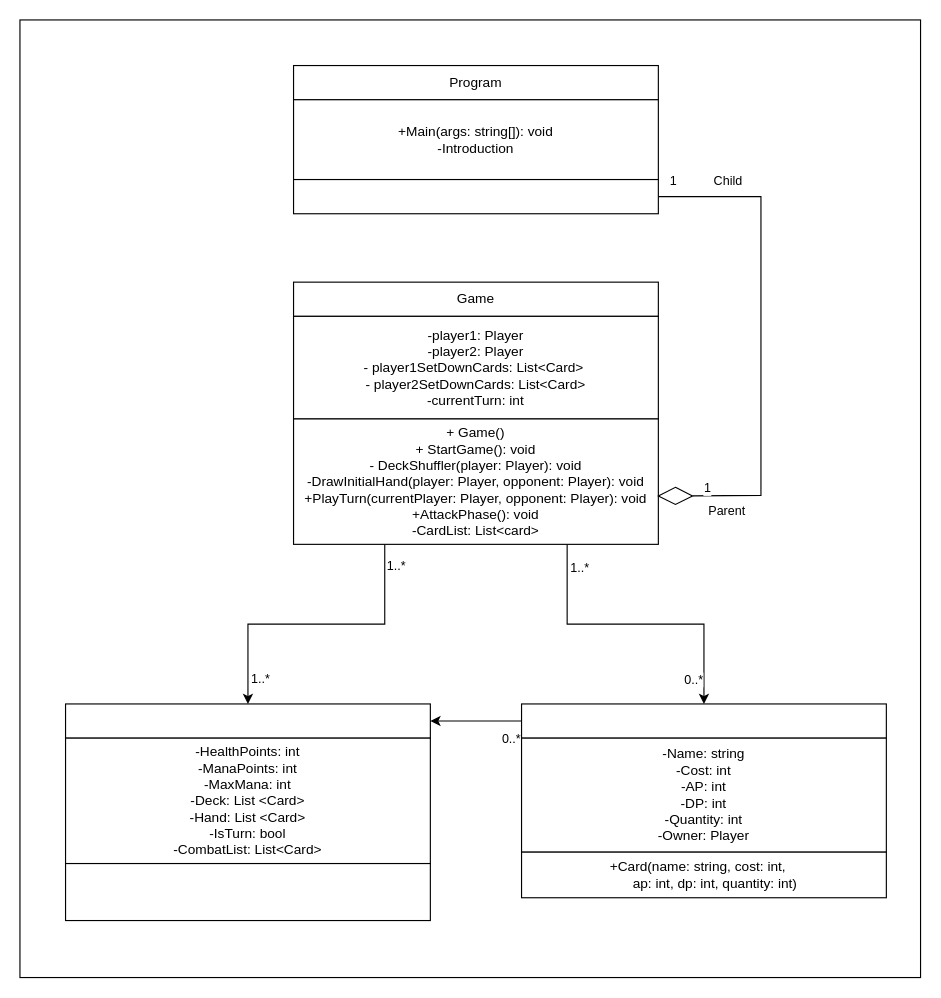
Image size: 941x998. Some labels were removed from this diagram. Each missing label, with the centre of its shape:
"+ StartTurn: void + EndTurn(turnCount: int): void" belongs at point (247, 891).
"+StartGame" belongs at point (475, 196).
"Card" belongs at point (703, 720).
"Player" belongs at point (247, 720).
